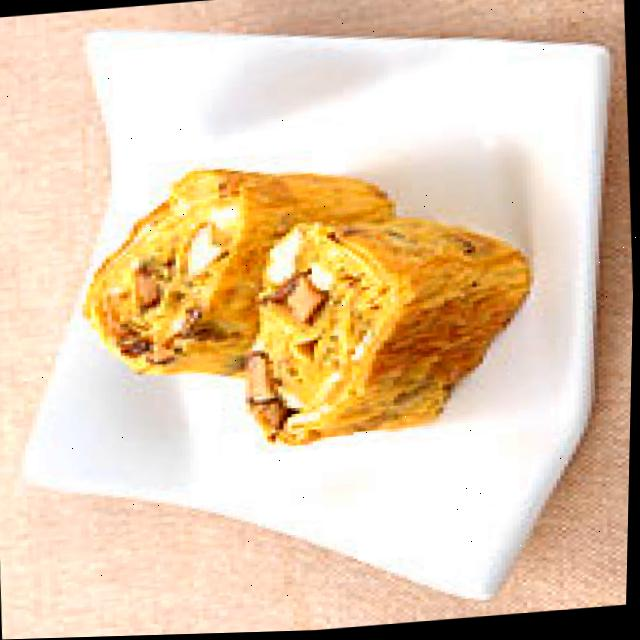鸡蛋料理: (54, 139, 558, 473)
